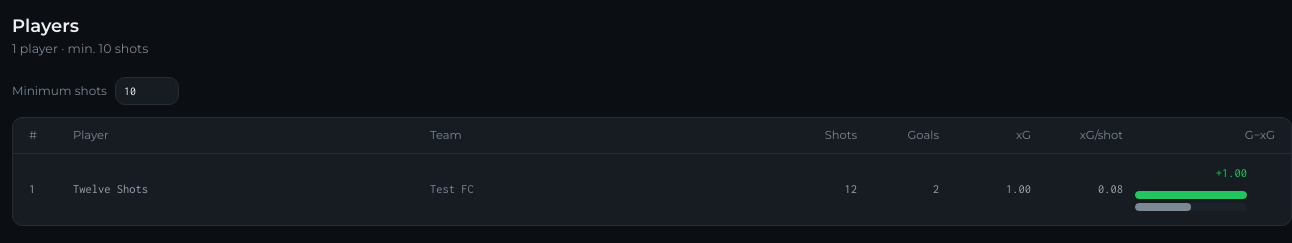
PlayersPage › raising the minimum-shots input re-filters the table
The width and height of the screenshot is (1292, 243).
Expected: the text "Twelve Shots" is shown, [73, 182, 148, 195]
Replace the text in the number field labelled "Minimum shots" with "15" at point(147, 91), box [115, 77, 179, 105]
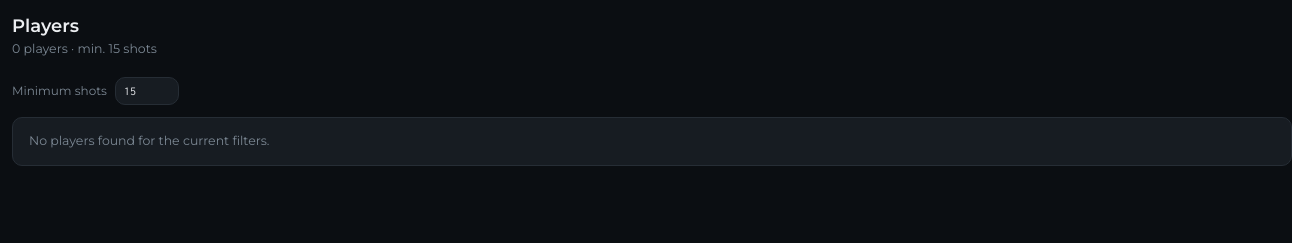
Expected: the link "Twelve Shots" is gone
